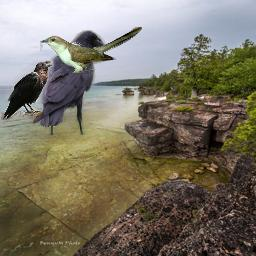Crow: (32, 30, 105, 135), (1, 60, 54, 120)
Cuckoo: (40, 26, 142, 73)
